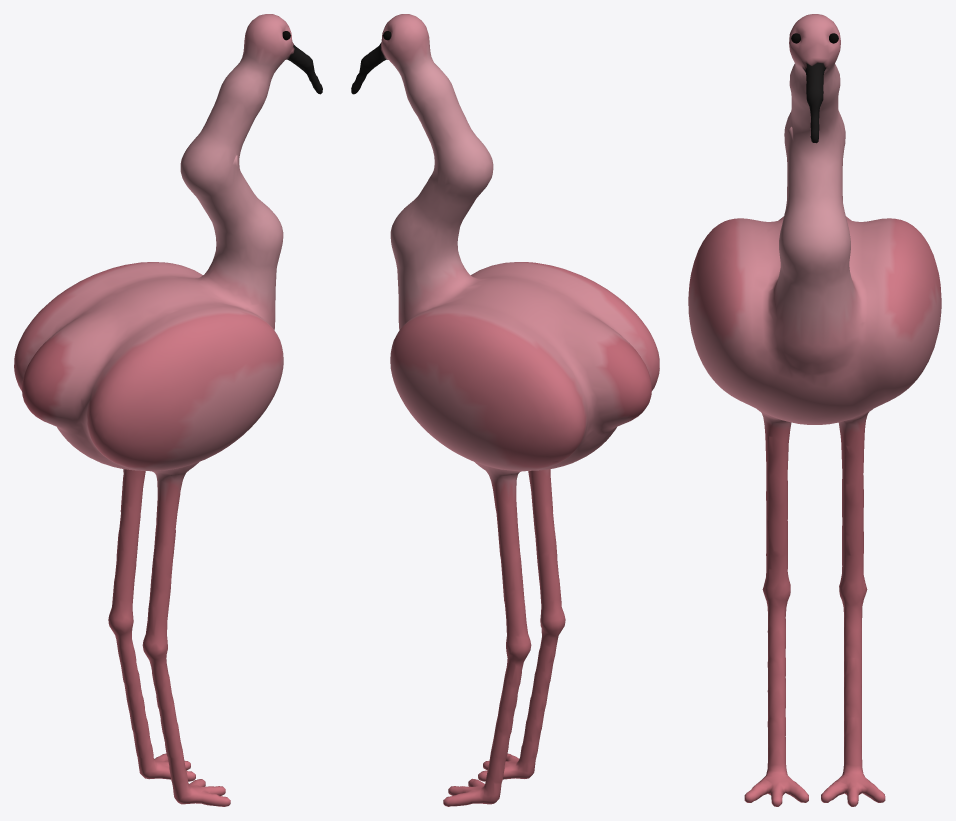
File: flamingo.glb
3 views of the same model, side by side, from view 1: azimuth 30°, elevation 25°; view 2: azimuth 150°, elevation 25°; view 3: azimuth 270°, elevation 25° (orthographic). The views are drawn at different scales.
Visible parts, largest first — view 1: flamingo; view 2: flamingo; view 3: flamingo.
Part boxes in pixels (x1,y1,x2,y2): flamingo: (14, 14, 322, 806); flamingo: (351, 14, 659, 806); flamingo: (688, 14, 941, 806).
Size of the model in its own units: 0.7288 by 1.77 by 0.4917.
